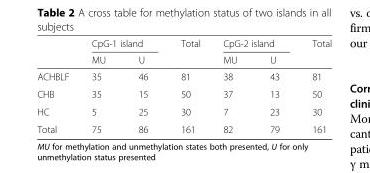table: (36, 37, 331, 134)
table column: (163, 37, 211, 134), (36, 37, 79, 134), (252, 37, 295, 134), (79, 37, 121, 134), (121, 37, 163, 134), (211, 37, 252, 134), (295, 37, 331, 134)
table column header: (36, 37, 331, 67)
table row: (36, 84, 331, 102), (36, 102, 331, 120), (36, 67, 331, 84), (36, 51, 331, 67), (36, 37, 331, 51), (36, 120, 331, 134)
table spanning cell: (163, 37, 211, 67), (79, 37, 163, 51), (211, 37, 295, 51), (295, 37, 331, 67)
